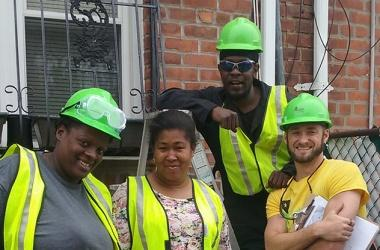helmet: (60, 87, 124, 142), (279, 94, 333, 131), (216, 17, 265, 55)
